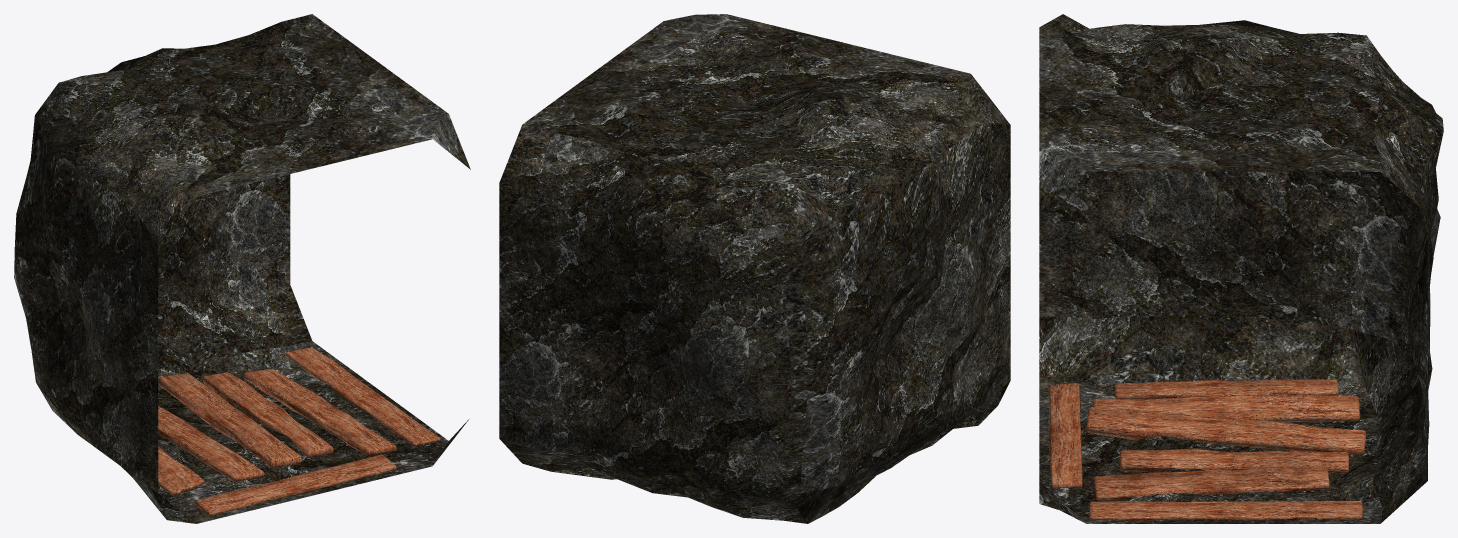
The model's file is Cave_008.fbx.
3 renders of one model, left to right at view 1: azimuth 30°, elevation 25°; view 2: azimuth 150°, elevation 25°; view 3: azimuth 270°, elevation 25°, orthographic. The views are drawn at different scales.
Parts seen in each view (by area): view 1: Cave.008; view 2: Cave.008; view 3: Cave.008.
Part boxes in pixels (x1,y1,x2,y2): Cave.008: (14, 14, 470, 523); Cave.008: (499, 14, 1010, 523); Cave.008: (1039, 14, 1443, 523).
Bounding box in the file's own units: 312 × 328 × 312.
